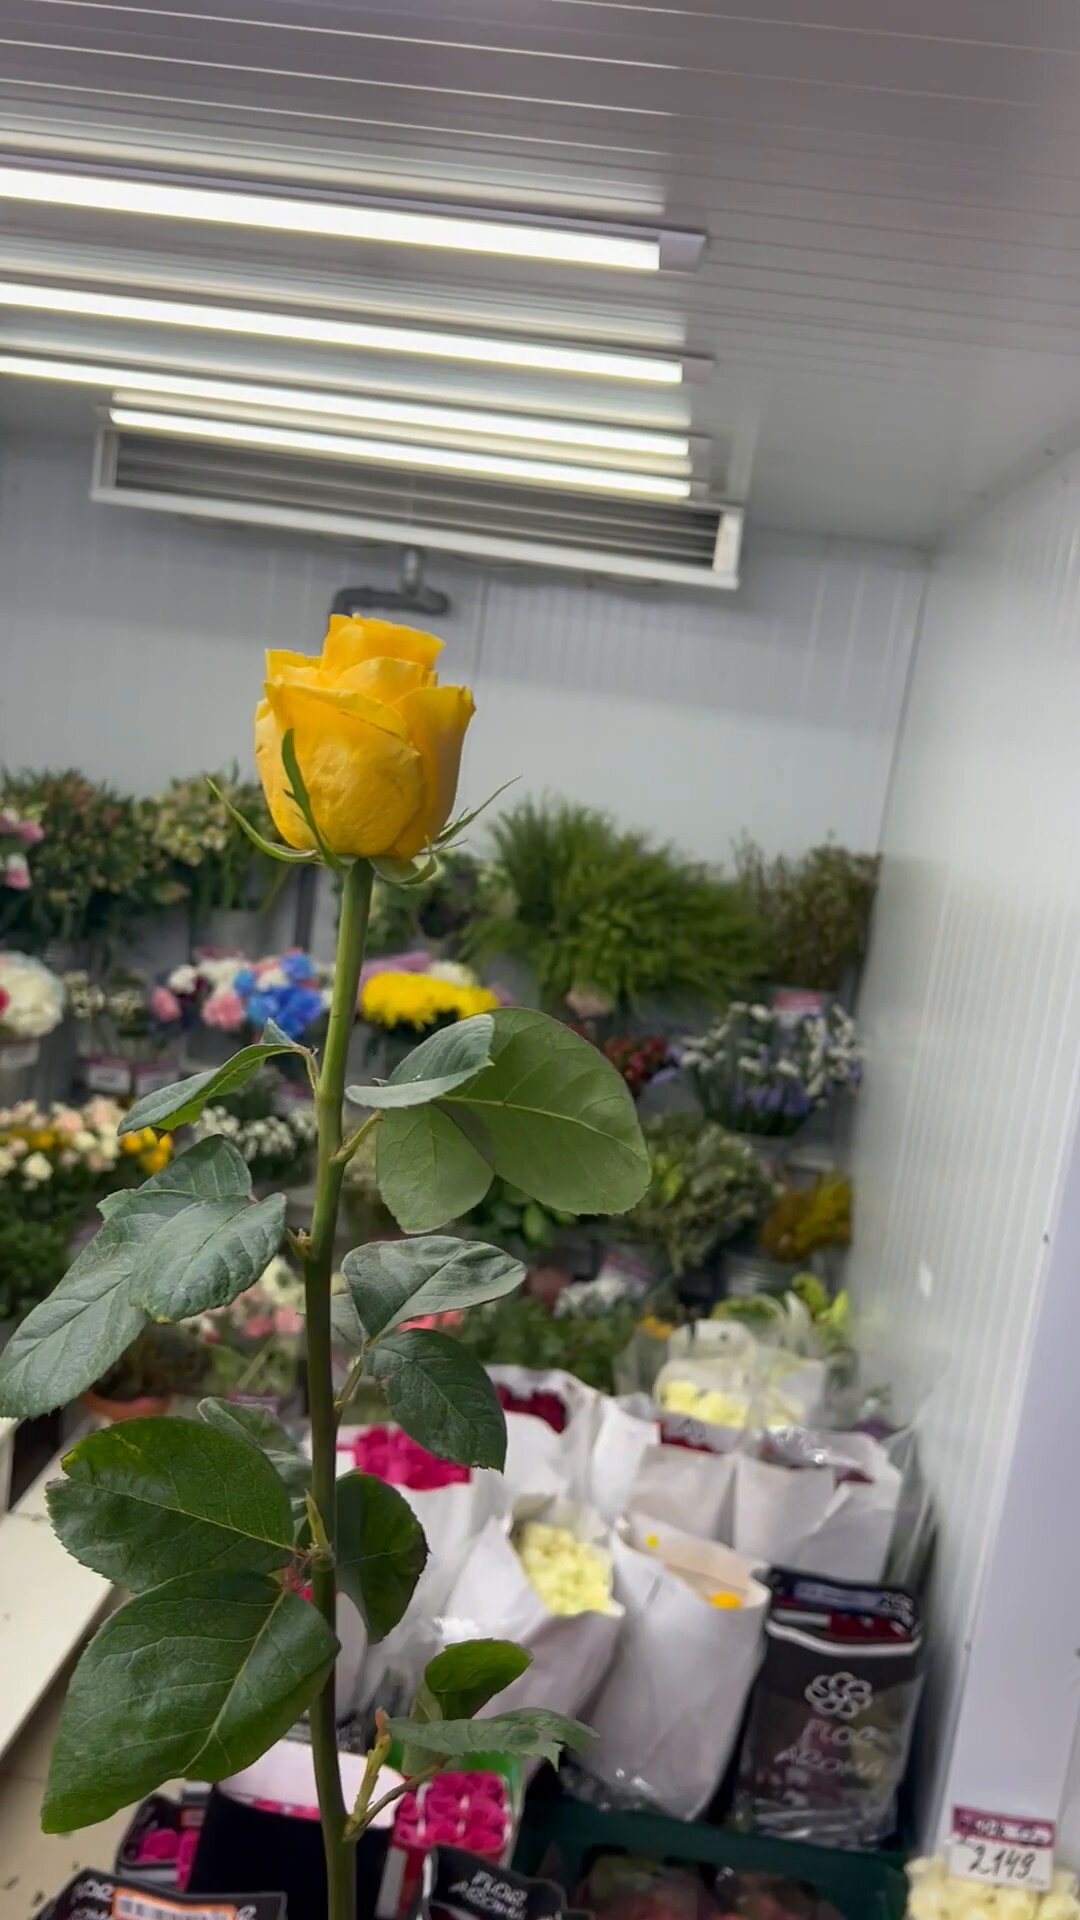rose: (71, 616, 626, 1902)
